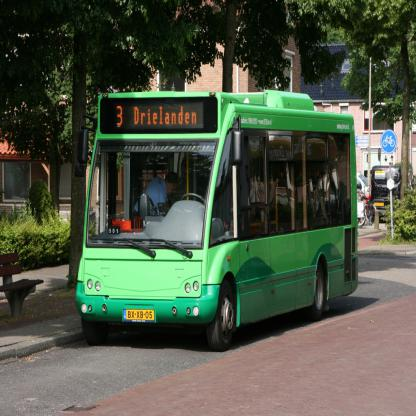Bus: (75, 74, 358, 352)
